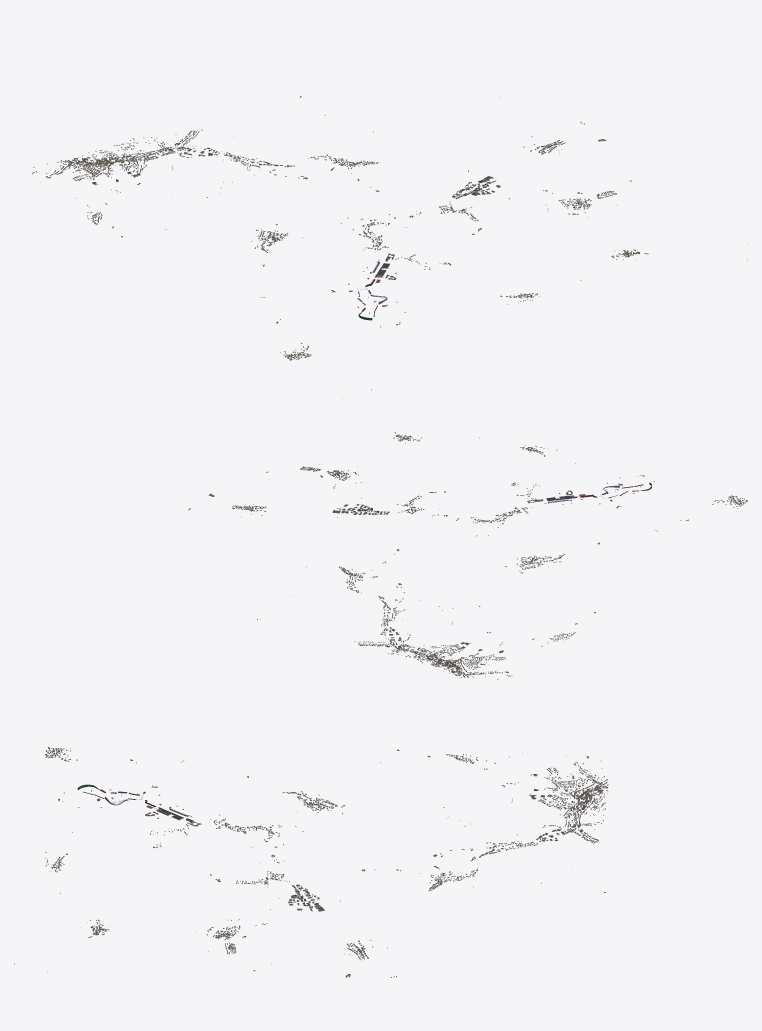
The model's file is scenery.glb.
The picture shows the model from 3 angles, top to bottom: view 1: azimuth 30°, elevation 25°; view 2: azimuth 150°, elevation 25°; view 3: azimuth 270°, elevation 25°; orthographic projection. The views are drawn at different scales.
Size of the model in its own units: 8664 by 396 by 9655.
